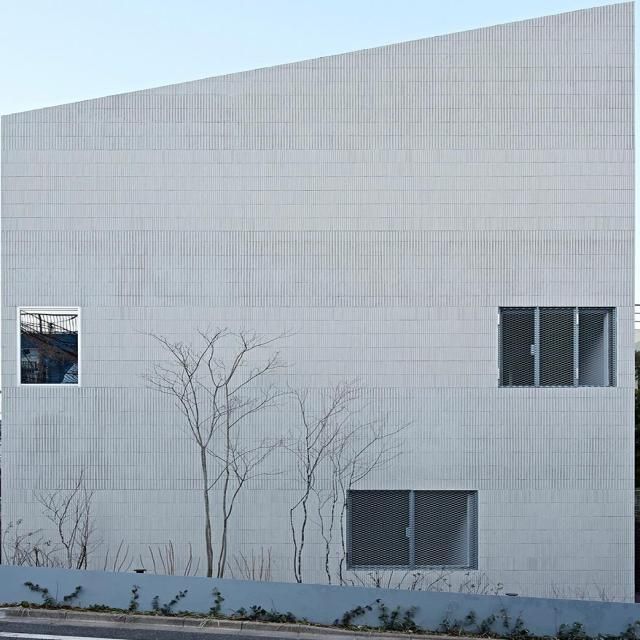window: (344, 490, 475, 566), (501, 306, 613, 384), (22, 305, 79, 387)
